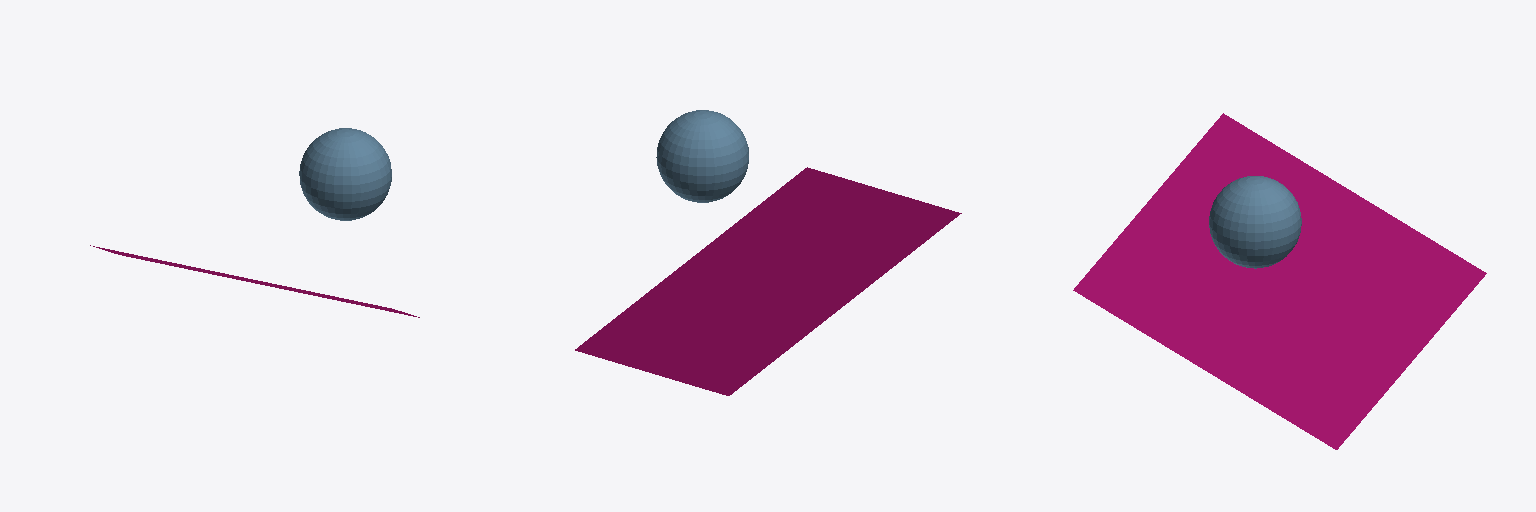
Rendered from intermediate.obj.
3 views of the same model, side by side, from view 1: azimuth 30°, elevation 25°; view 2: azimuth 150°, elevation 25°; view 3: azimuth 270°, elevation 25° (orthographic).
Parts seen in each view (by area): view 1: Sphere, Plane.001; view 2: Plane.001, Sphere; view 3: Plane.001, Sphere.
Boxes of the visible parts, box(x1,y1,x2,y2) form: Sphere: box(299, 128, 391, 220); Plane.001: box(90, 245, 419, 317); Plane.001: box(575, 167, 961, 395); Sphere: box(656, 110, 748, 202); Plane.001: box(1073, 113, 1486, 449); Sphere: box(1209, 176, 1301, 268).
Size of the model in its own units: 12.36 by 8.13 by 13.4.